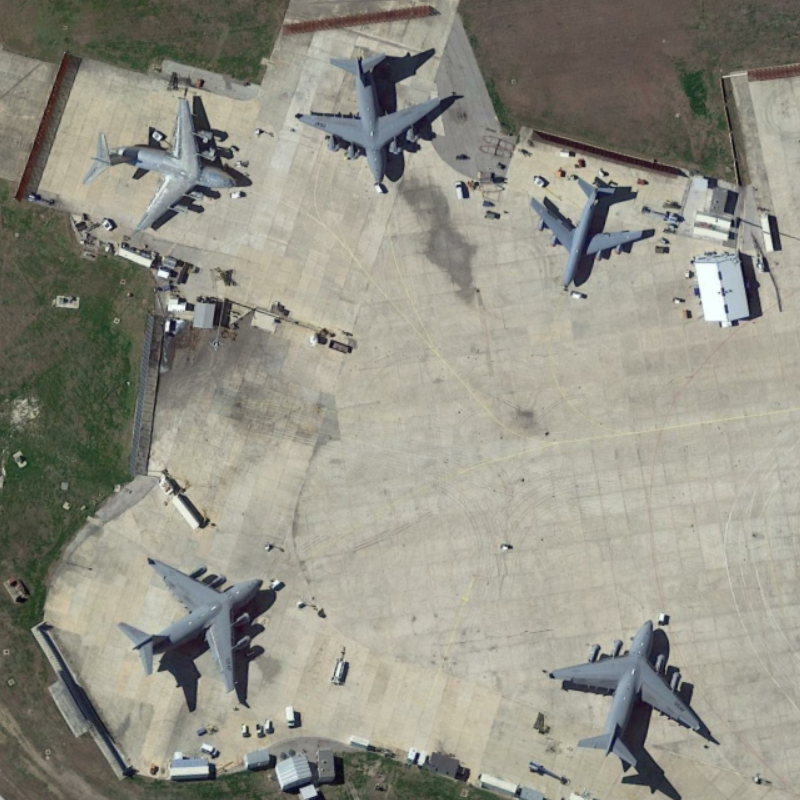A14: (523, 174, 654, 298)
A3: (545, 612, 713, 777), (76, 90, 246, 239), (292, 40, 459, 190), (116, 551, 282, 700)
